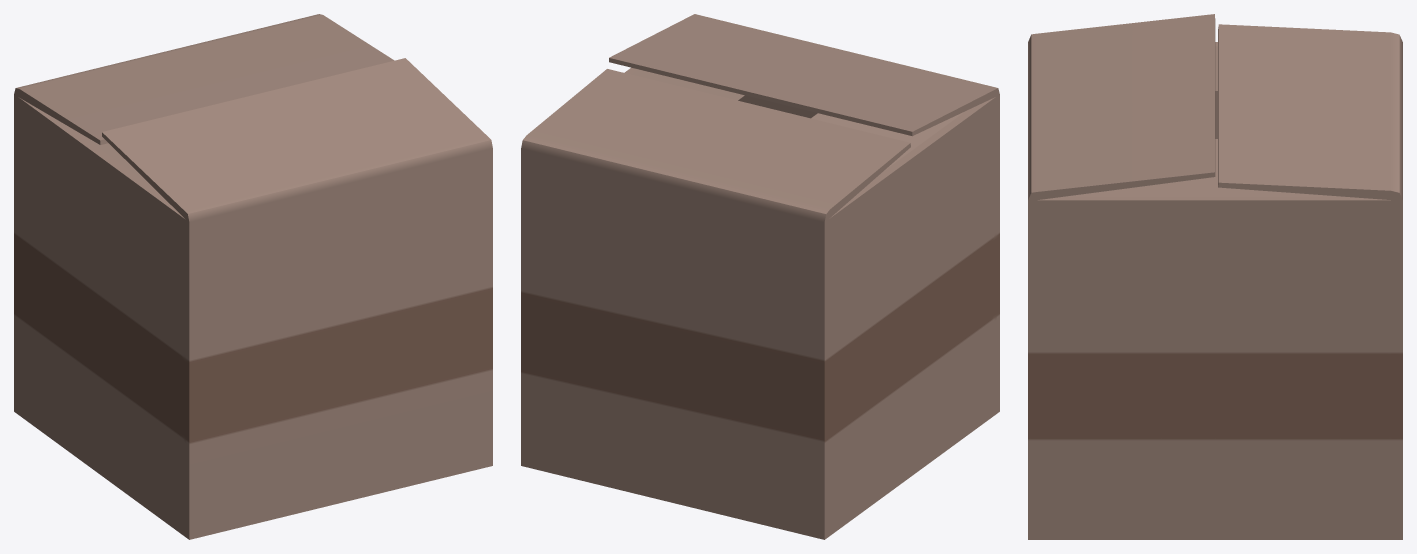
File: Cardboard_Box_Model.fbx
3 renders of one model, left to right at view 1: azimuth 30°, elevation 25°; view 2: azimuth 150°, elevation 25°; view 3: azimuth 270°, elevation 25°, orthographic. The views are drawn at different scales.
Visible parts, largest first — view 1: pCube1; view 2: pCube1; view 3: pCube1.
Part boxes in pixels (x1,y1,x2,y2): pCube1: [14, 14, 492, 539]; pCube1: [521, 14, 999, 539]; pCube1: [1028, 14, 1402, 539].
Bounding box in the file's own units: 30 × 32.47 × 30.
1 material, 1 textured.
